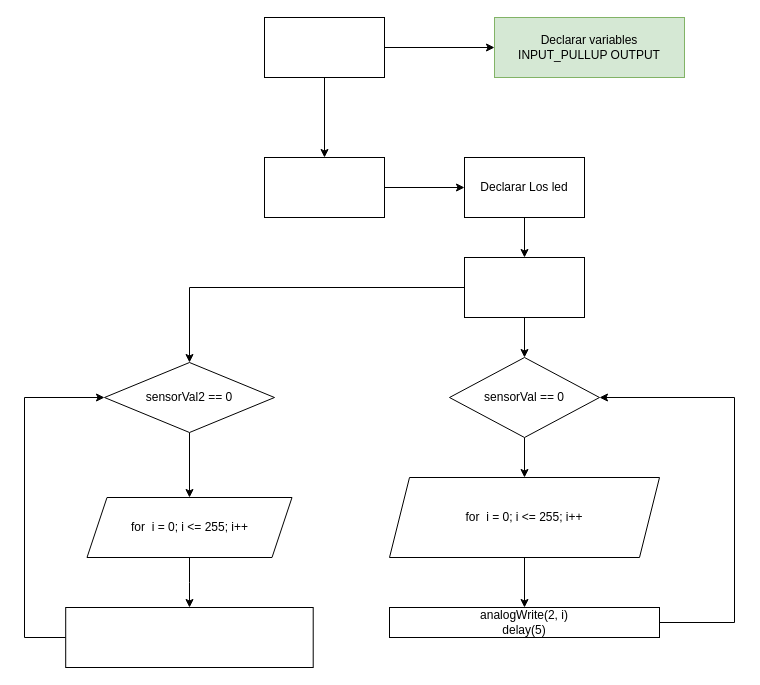
Image size: 760x685. Some labels were removed from this diagram. Each missing label, with the centre of its shape:
"analogWrite(2, i) delay(2)" goes at pixel 189 637.
"Apagar el led" goes at pixel 524 287.
"loop" goes at pixel 324 187.
"Setup" goes at pixel 324 47.
